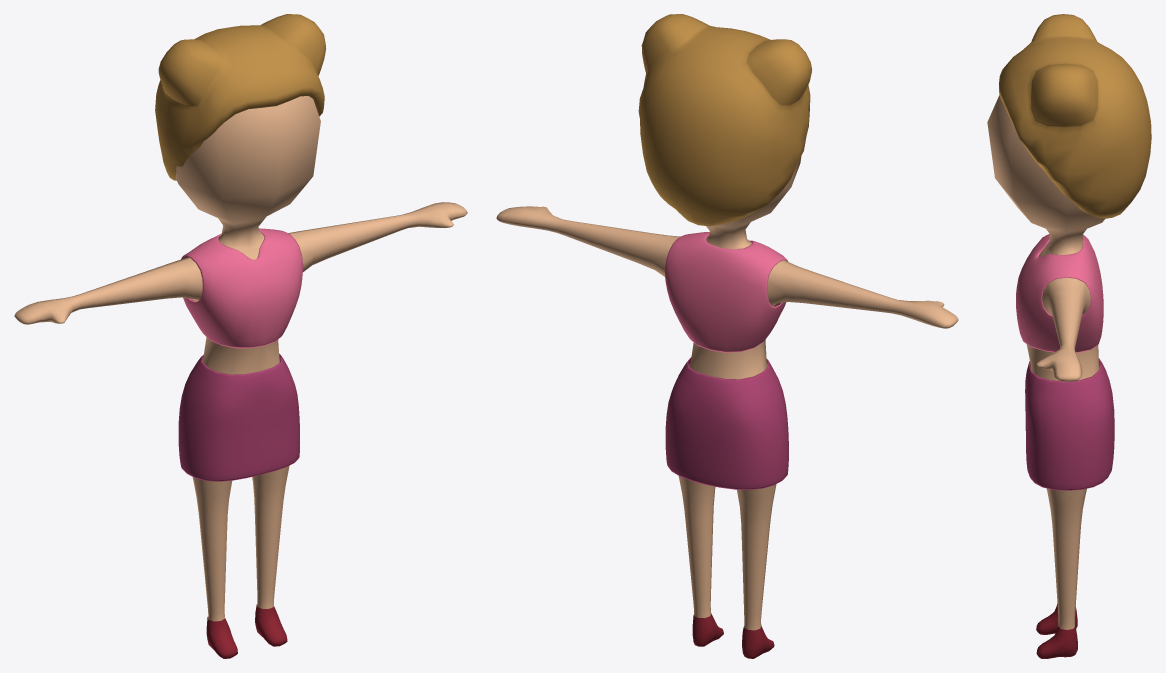
The model's file is body_woman1.fbx.
3 views of the same model, side by side, from view 1: azimuth 30°, elevation 25°; view 2: azimuth 150°, elevation 25°; view 3: azimuth 270°, elevation 25° (orthographic). The views are drawn at different scales.
Visible parts, largest first — view 1: body_woman1, hair_woman1, skirt_woman1, shirt_woman1, shoe_woman1; view 2: hair_woman1, body_woman1, skirt_woman1, shirt_woman1, shoe_woman1; view 3: hair_woman1, body_woman1, skirt_woman1, shirt_woman1, shoe_woman1.
Part boxes in pixels (x1,y1,x2,y2): body_woman1: (14, 96, 467, 621); hair_woman1: (155, 14, 325, 180); skirt_woman1: (178, 353, 299, 481); shirt_woman1: (181, 228, 303, 348); shoe_woman1: (206, 604, 287, 658); hair_woman1: (638, 14, 811, 226); body_woman1: (496, 156, 958, 630); skirt_woman1: (665, 356, 788, 489); shirt_woman1: (664, 232, 788, 352); shoe_woman1: (692, 613, 774, 658); hair_woman1: (999, 14, 1151, 218); body_woman1: (987, 95, 1105, 629); skirt_woman1: (1025, 358, 1114, 490); shirt_woman1: (1016, 234, 1103, 352); shoe_woman1: (1036, 603, 1077, 658).
Bounding box in the file's own units: 156 × 204 × 50.34.
